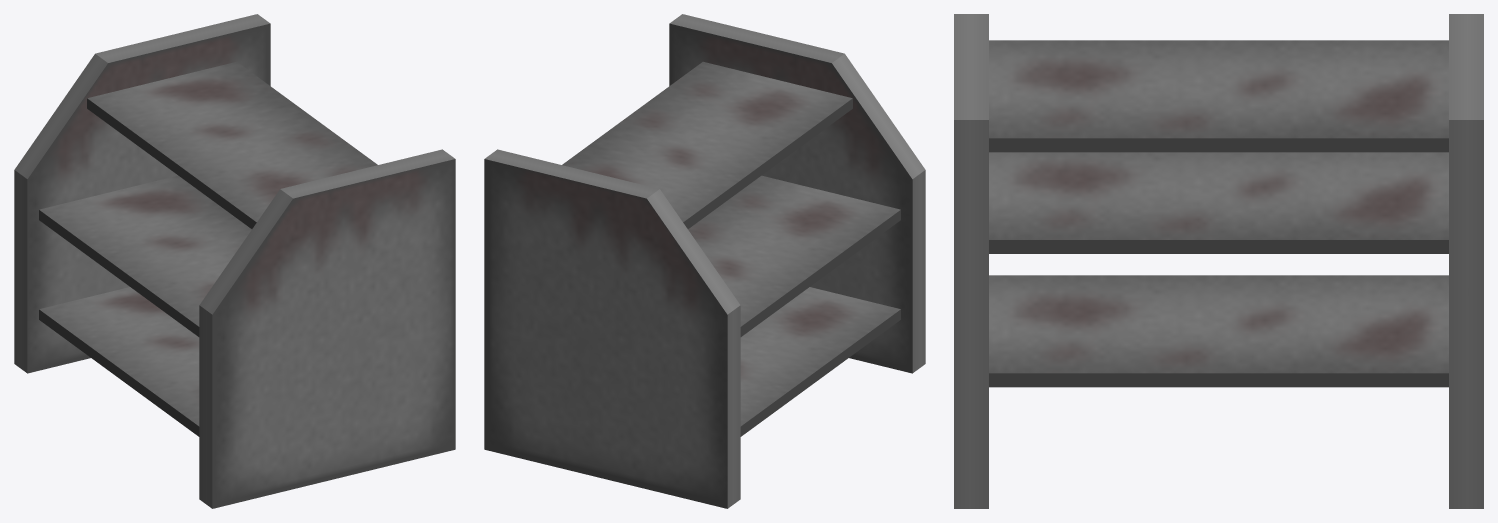
The model's file is LP_CHECKOUTTRAY.fbx.
The picture shows the model from 3 angles, left to right: view 1: azimuth 30°, elevation 25°; view 2: azimuth 150°, elevation 25°; view 3: azimuth 270°, elevation 25°; orthographic projection. The views are drawn at different scales.
Parts seen in each view (by area): view 1: sides, trays; view 2: sides, trays; view 3: trays, sides.
Boxes of the visible parts, bbox=[...] form: sides: bbox=[14, 14, 455, 508]; trays: bbox=[39, 61, 377, 436]; sides: bbox=[484, 14, 925, 508]; trays: bbox=[562, 61, 900, 436]; trays: bbox=[989, 40, 1448, 387]; sides: bbox=[954, 14, 1483, 508].
Bounding box in the file's own units: 145 × 165 × 204.
